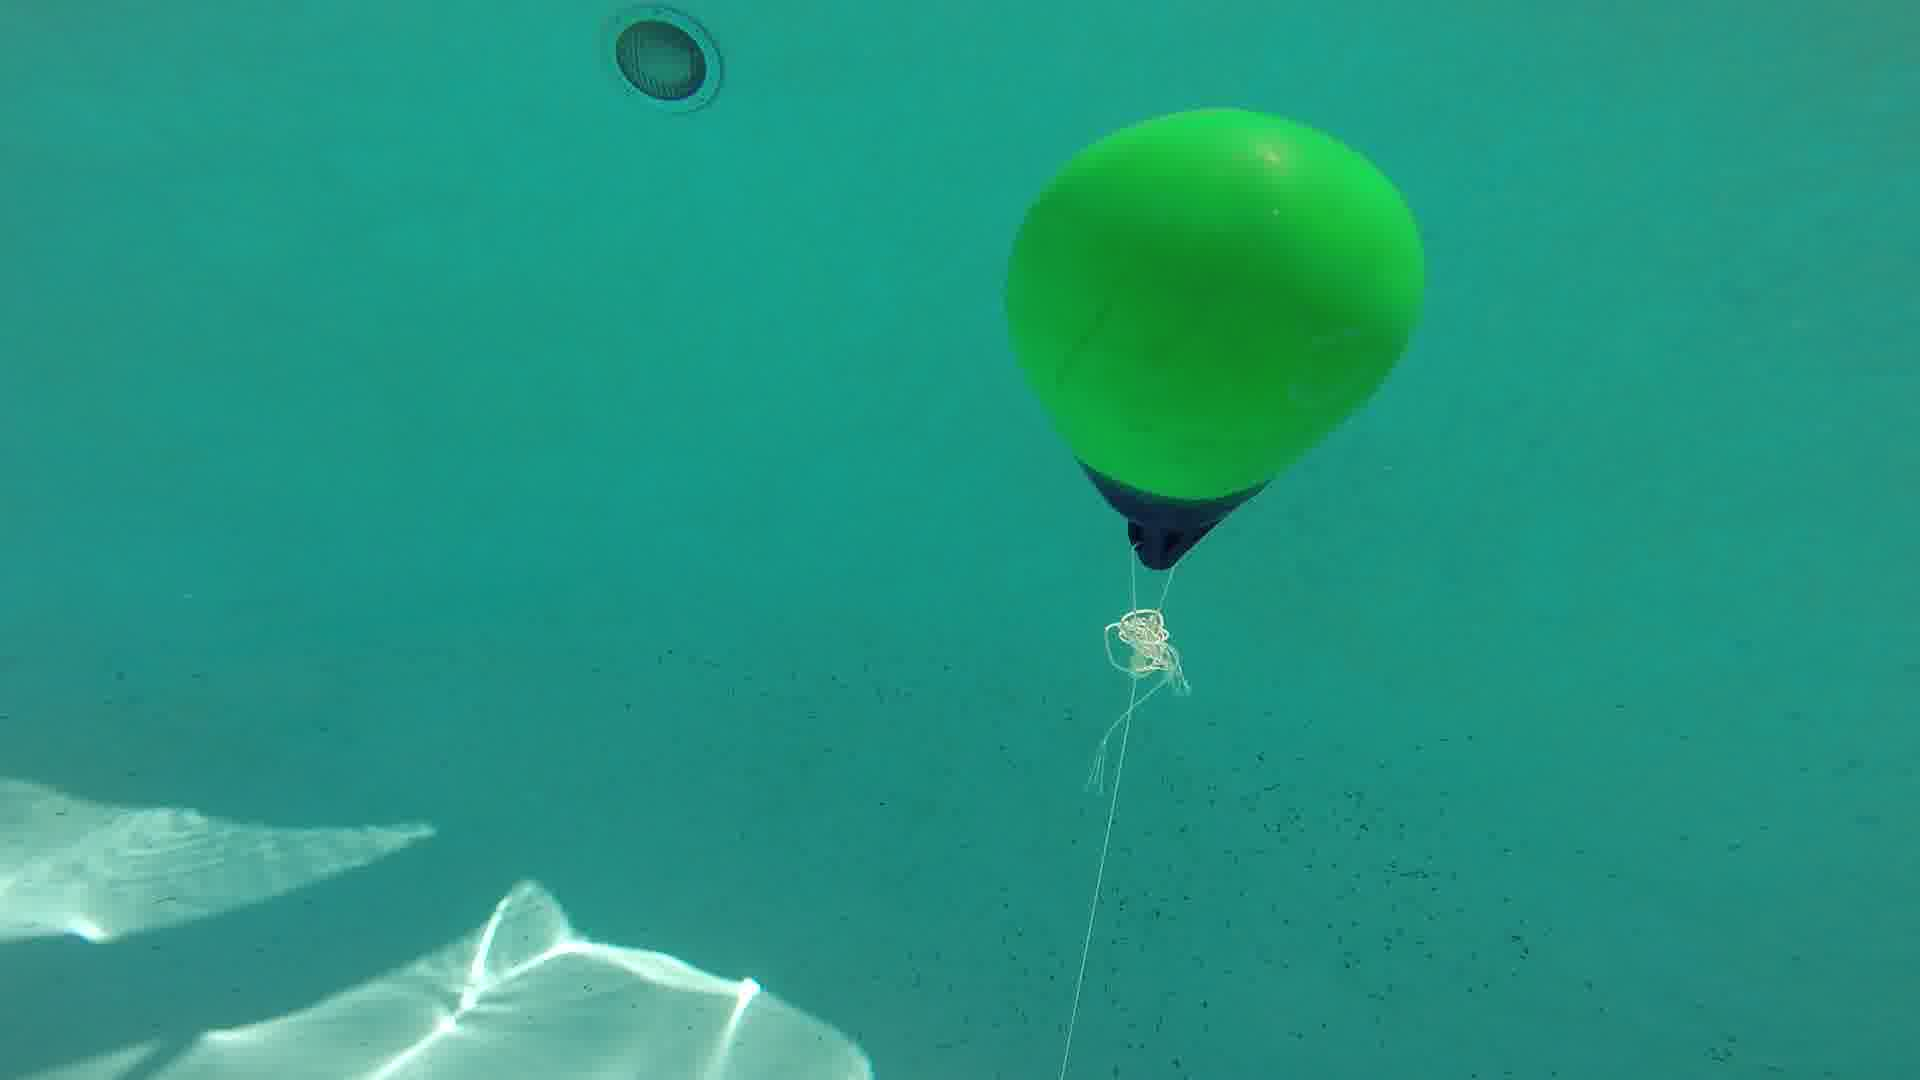yellow_buoy: (1005, 107, 1432, 582)
